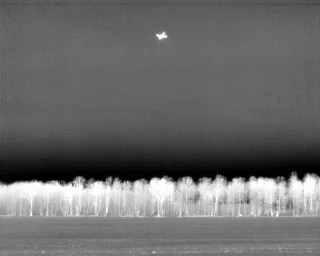DRONE: (152, 27, 172, 45)
